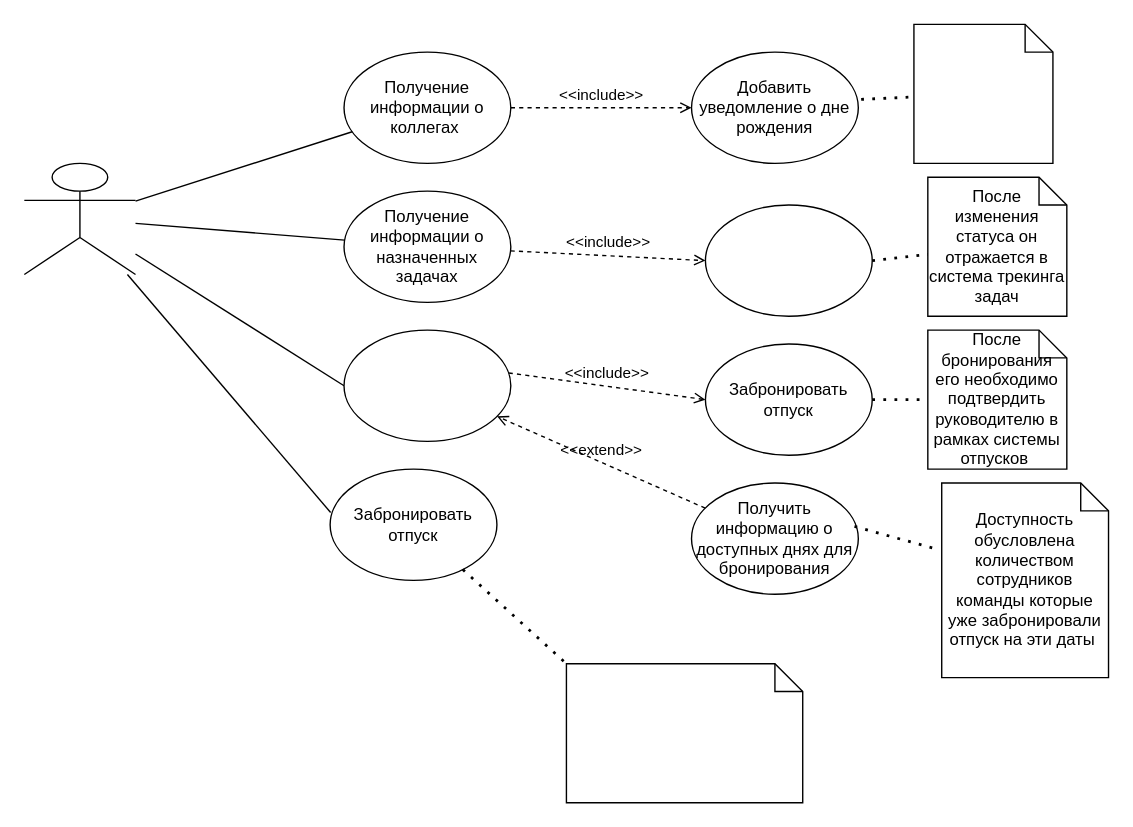
Image size: 1133x827. Some labels were removed from this diagram. Here are the shapes that lost their labels. From the top down, the centre of each, then its label:
pixel 983 93: Уведомления приходят от бота в этот же чат в telegram
pixel 79 218: Пользователь
pixel 788 260: Изменить статус задачи
pixel 427 385: Получить информацию о отпусках
pixel 684 732: Бронирование доступно при условии что у сотрудника достаточно доступных дней
